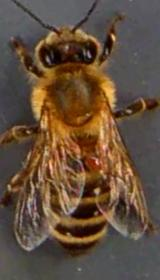varroa_mite: (77, 151, 104, 174)
